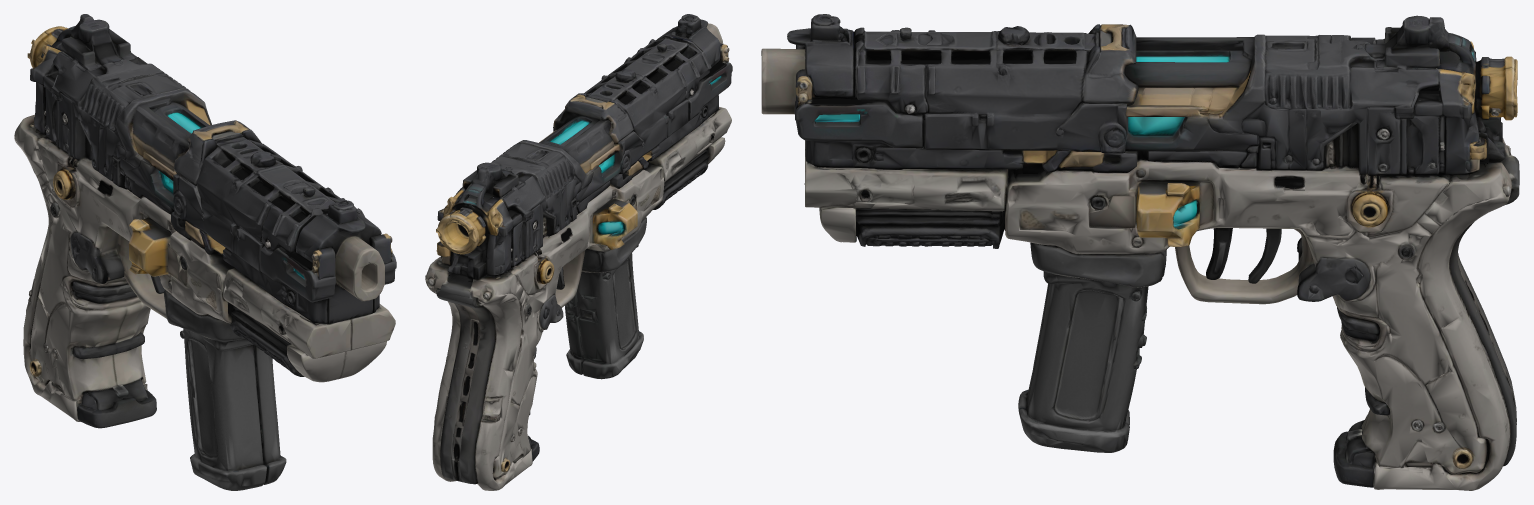
File: viewmodel_sidearm_reference_raw_for_blender.glb
The picture shows the model from 3 angles, left to right: view 1: azimuth 30°, elevation 25°; view 2: azimuth 150°, elevation 25°; view 3: azimuth 270°, elevation 25°; orthographic projection. The views are drawn at different scales.
Visible parts, largest first — view 1: hp_reference_node_ad34a52e-3fc2-4ce0-a72b-5d90e6870928; view 2: hp_reference_node_ad34a52e-3fc2-4ce0-a72b-5d90e6870928; view 3: hp_reference_node_ad34a52e-3fc2-4ce0-a72b-5d90e6870928.
Boxes of the visible parts, <box> form: hp_reference_node_ad34a52e-3fc2-4ce0-a72b-5d90e6870928: <box>14,14,396,490</box>; hp_reference_node_ad34a52e-3fc2-4ce0-a72b-5d90e6870928: <box>425,14,732,490</box>; hp_reference_node_ad34a52e-3fc2-4ce0-a72b-5d90e6870928: <box>761,14,1519,490</box>.
Size of the model in its own units: 0.2431 by 0.6473 by 0.9785.
Materials: 1 (1 with a texture image).
